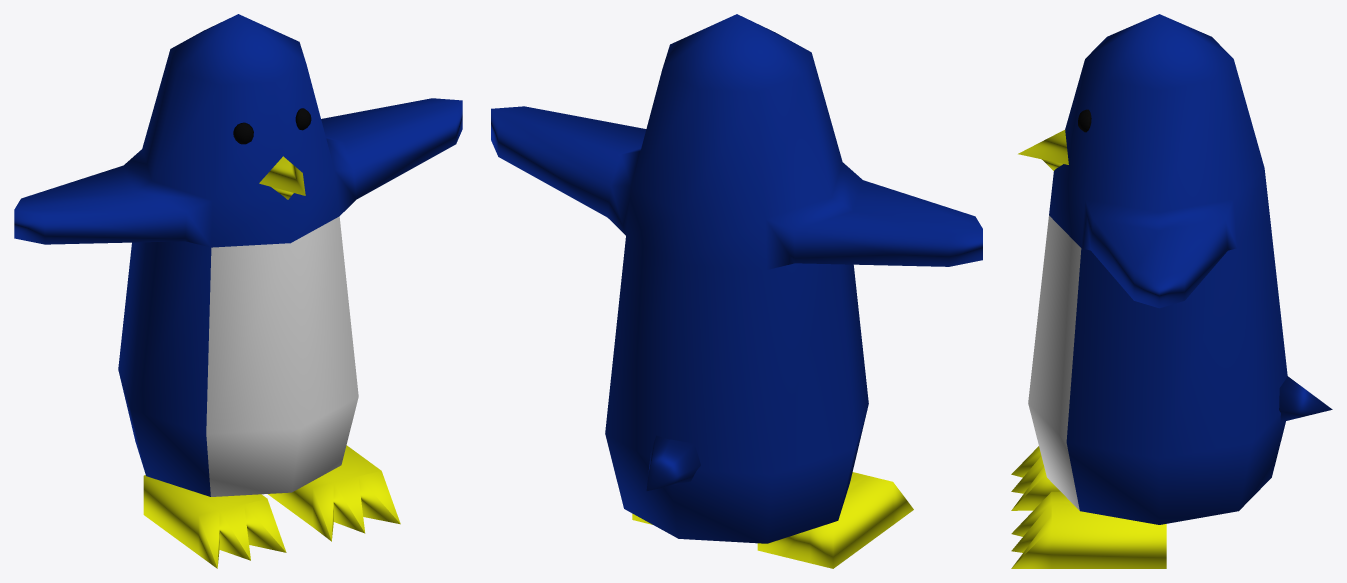
Rendered from penguin_2.fbx.
3 views of the same model, side by side, from view 1: azimuth 30°, elevation 25°; view 2: azimuth 150°, elevation 25°; view 3: azimuth 270°, elevation 25° (orthographic). The views are drawn at different scales.
Parts seen in each view (by area): view 1: pCylinder2; view 2: pCylinder2; view 3: pCylinder2.
Boxes of the visible parts, box(x1,y1,x2,y2) form: pCylinder2: box(14, 14, 462, 568); pCylinder2: box(491, 14, 982, 568); pCylinder2: box(1011, 14, 1332, 568).
Size of the model in its own units: 2.87 by 2.94 by 1.69.
